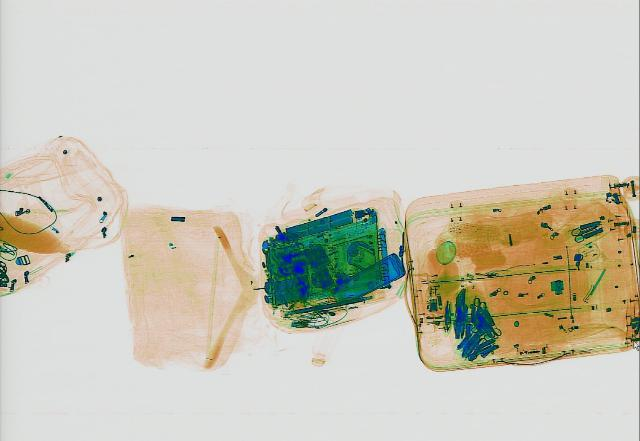Scissors: (564, 217, 608, 242)
